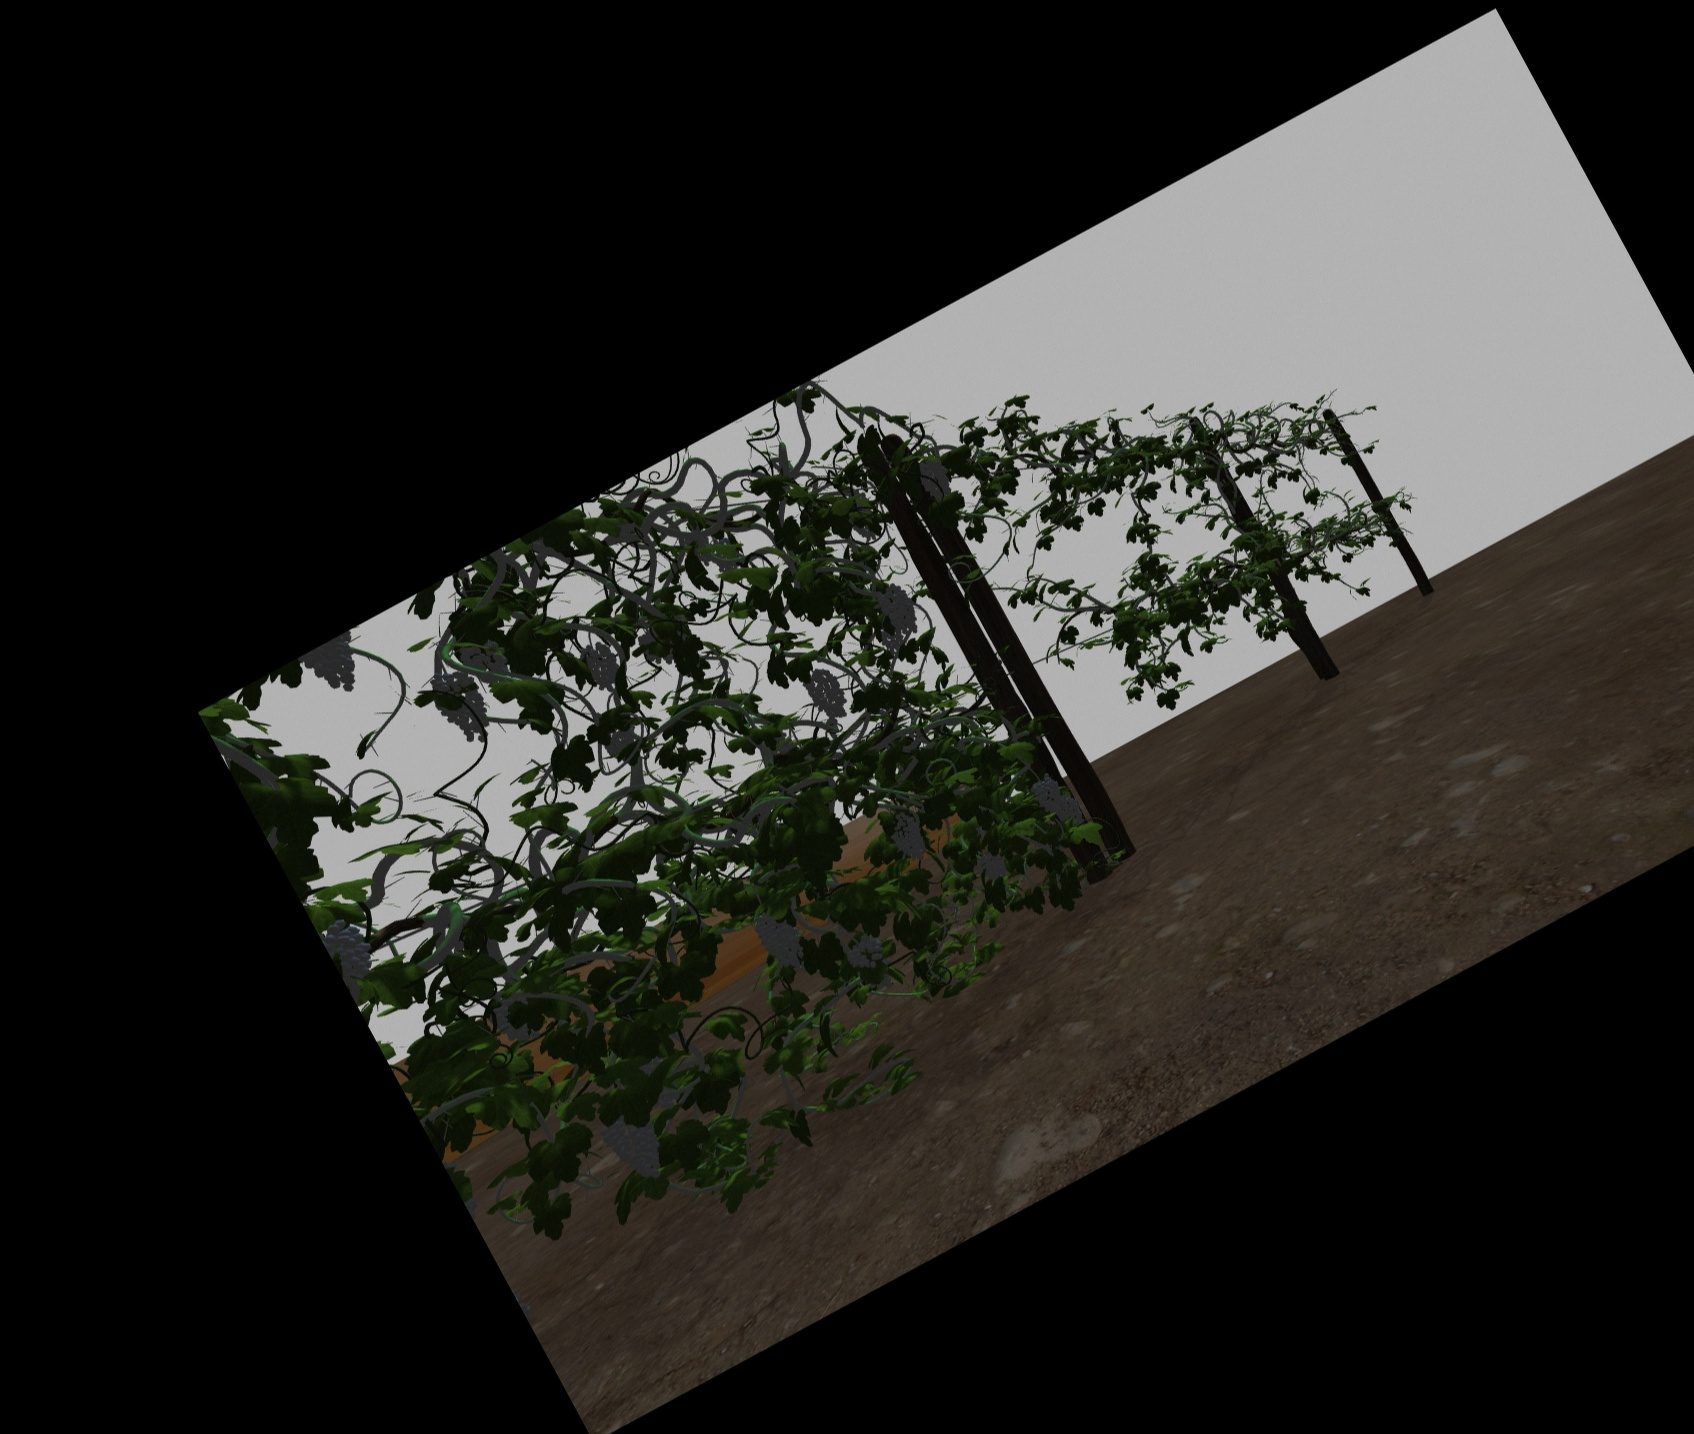grape: (612, 1110, 659, 1181), (442, 671, 484, 743), (334, 918, 373, 986), (762, 910, 799, 972), (467, 639, 506, 686), (880, 583, 913, 633), (809, 669, 842, 718), (893, 815, 925, 861), (587, 644, 617, 690), (846, 935, 880, 970), (922, 460, 949, 498), (1035, 775, 1061, 812), (973, 849, 1006, 878), (1057, 797, 1080, 827)
